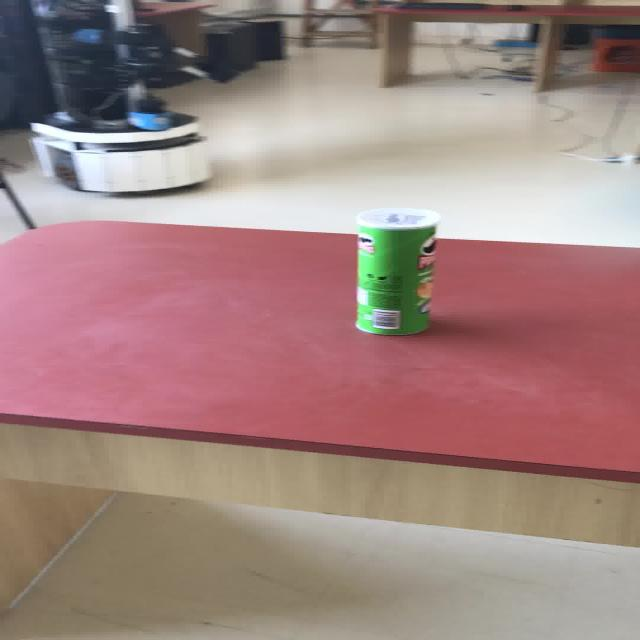pringles: (352, 207, 440, 335)
